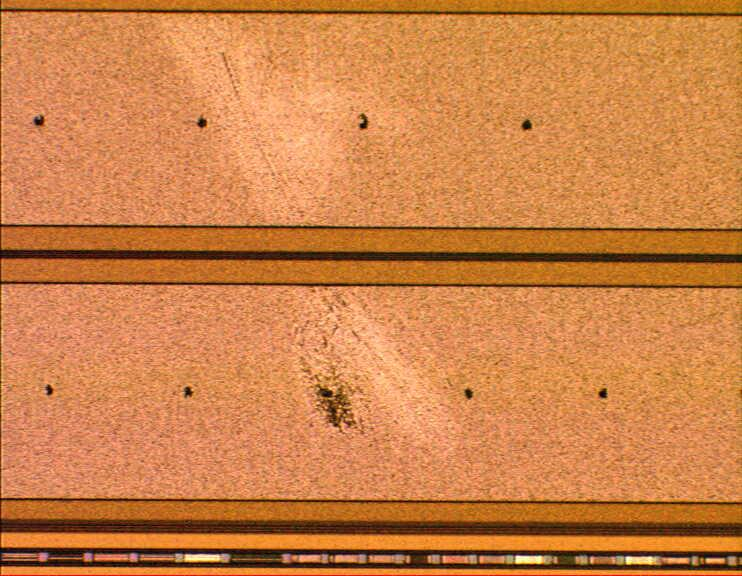SCRATCH: (142, 6, 483, 462)
